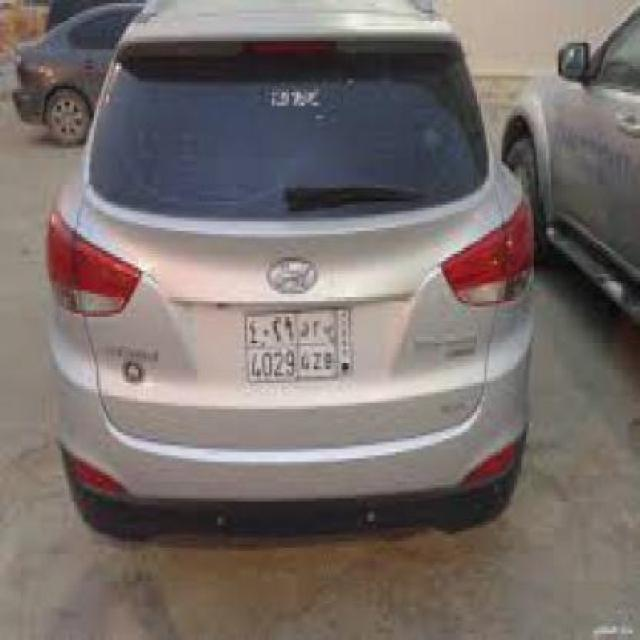license_plate: (244, 304, 356, 385)
